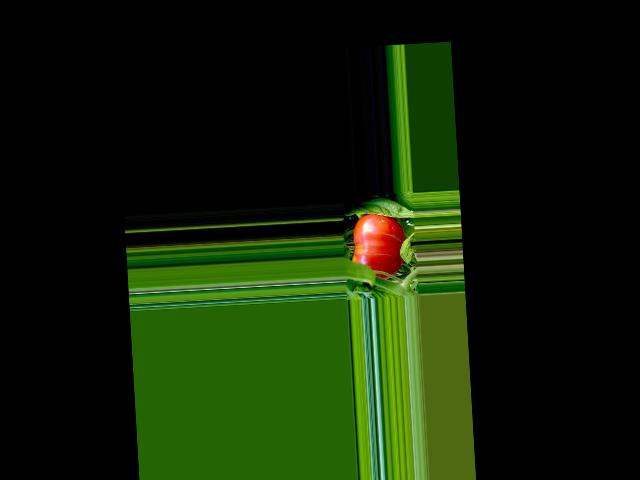tomato: (349, 211, 407, 281)
